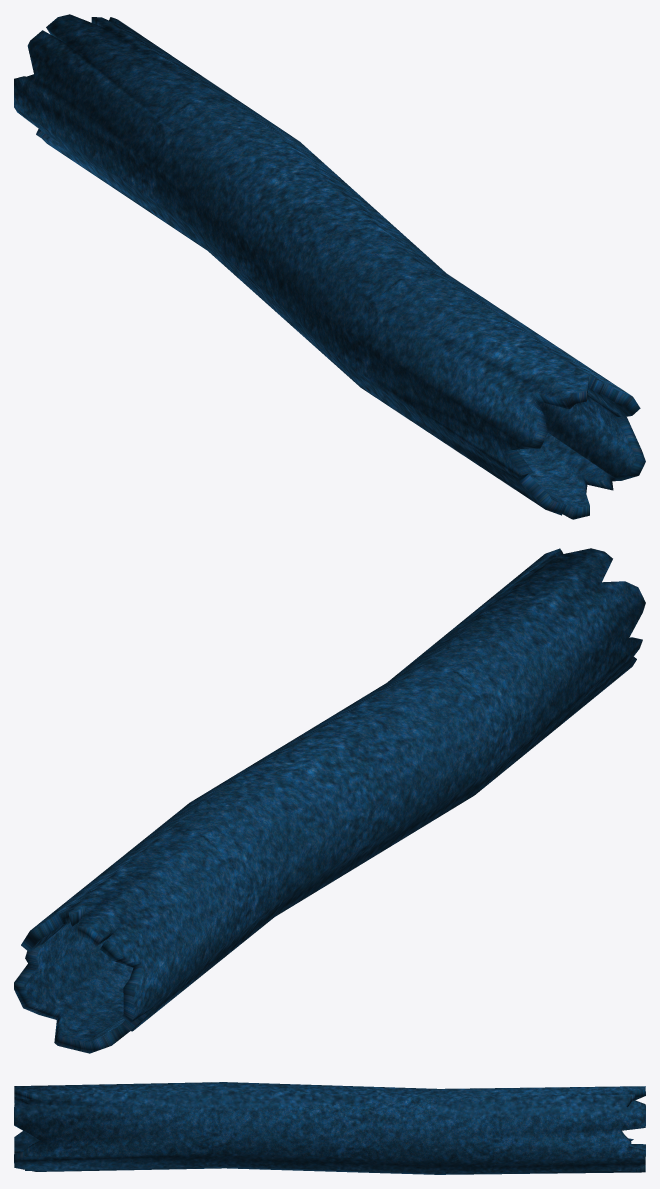
The model's file is Pipe04.fbx.
3 renders of one model, top to bottom at view 1: azimuth 30°, elevation 25°; view 2: azimuth 150°, elevation 25°; view 3: azimuth 270°, elevation 25°, orthographic. The views are drawn at different scales.
Visible parts, largest first — view 1: Pipe04; view 2: Pipe04; view 3: Pipe04.
Boxes of the visible parts, x1=… form: Pipe04: x1=14, y1=14, x2=645, y2=519; Pipe04: x1=14, y1=548, x2=645, y2=1053; Pipe04: x1=14, y1=1082, x2=645, y2=1174.
Bounding box in the file's own units: 14.53 × 12.19 × 90.08.
